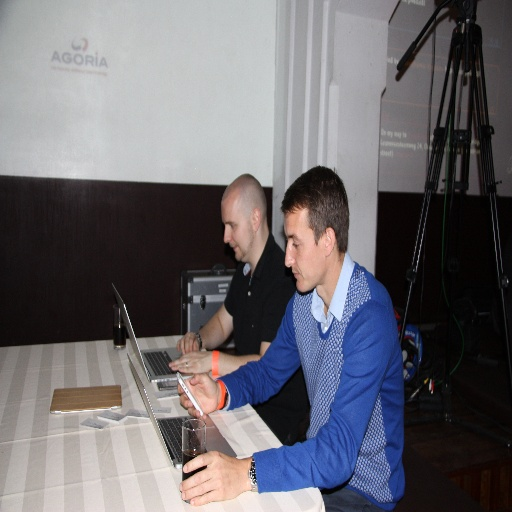hand: (185, 454, 255, 510), (176, 372, 217, 421), (166, 350, 215, 375), (175, 332, 200, 356)
